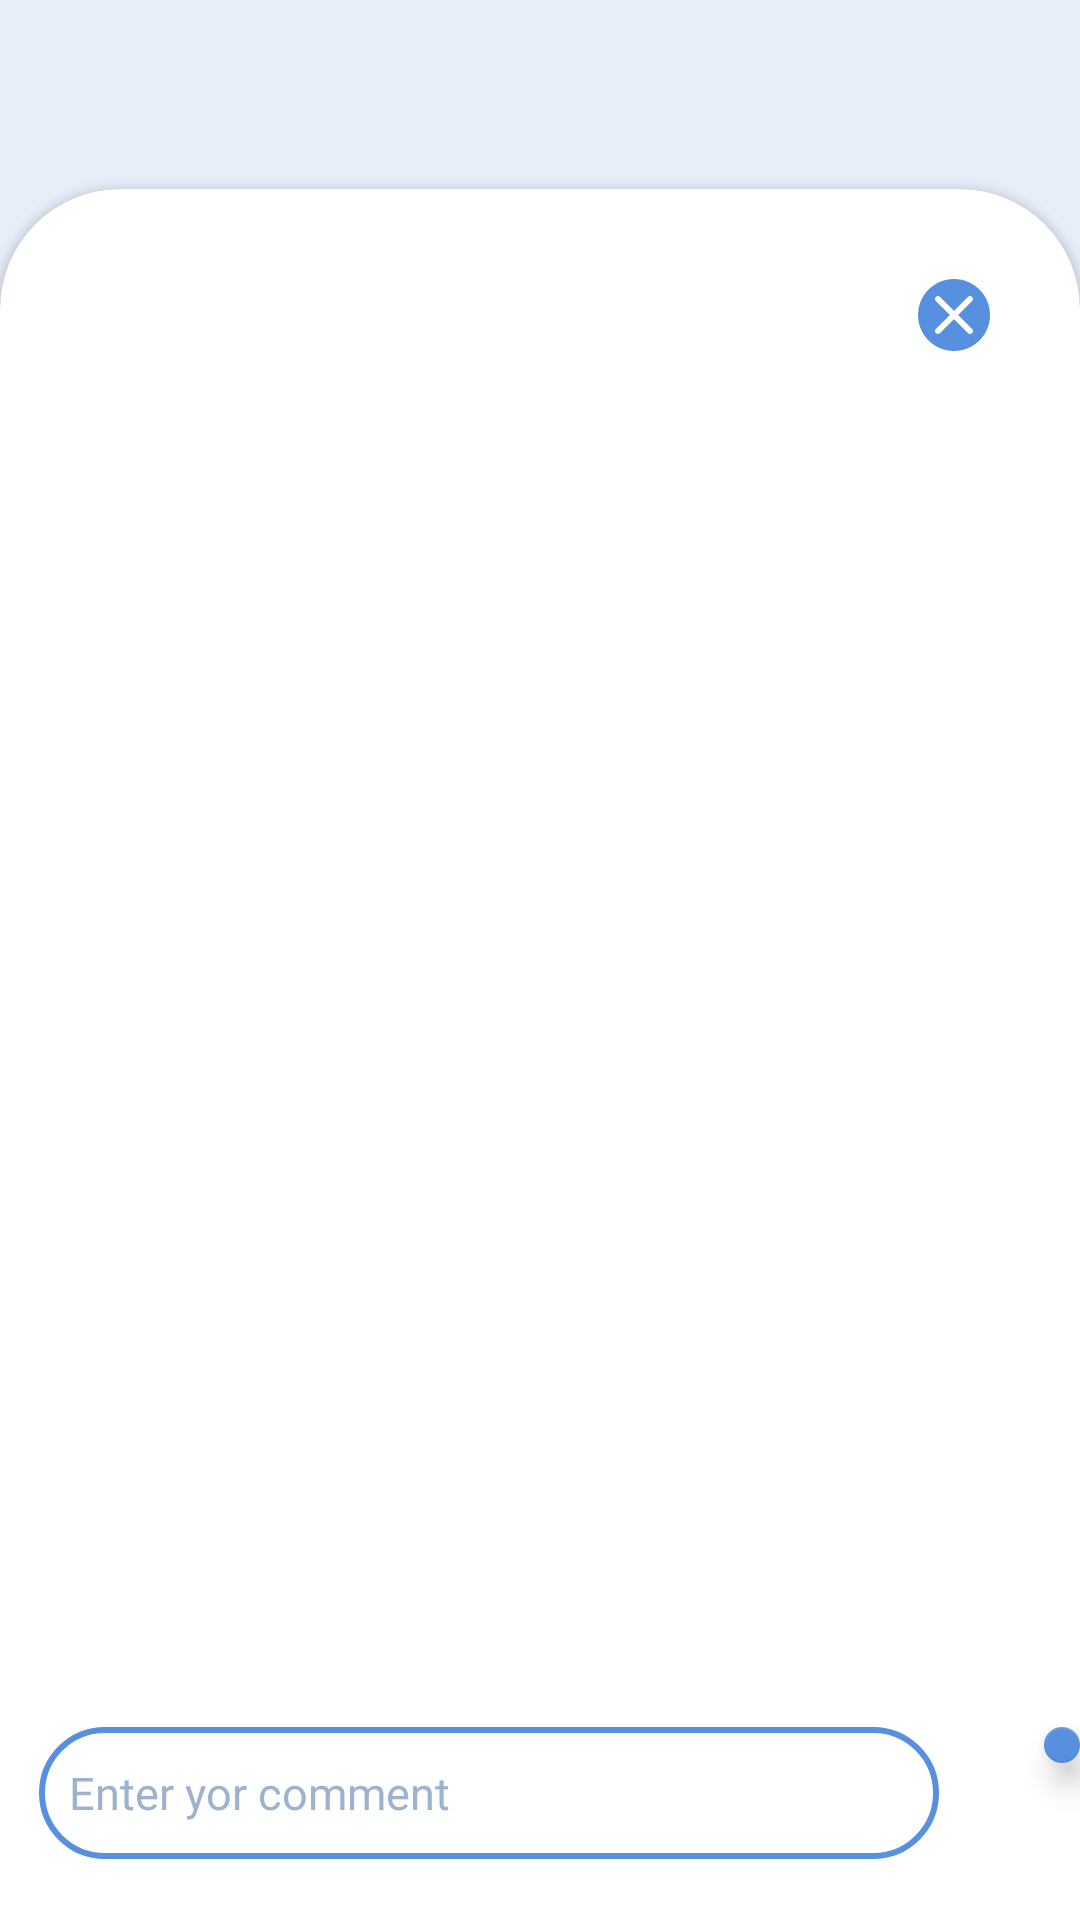

Icon click points for this 1080×1920 phone screenshot, format point (x, y):
exit: point (954, 315)
